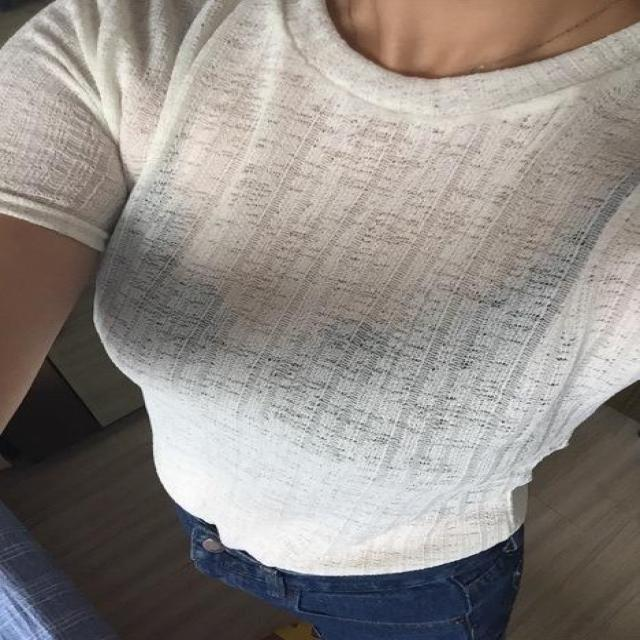short-sleeve-top: (31, 6, 640, 562)
